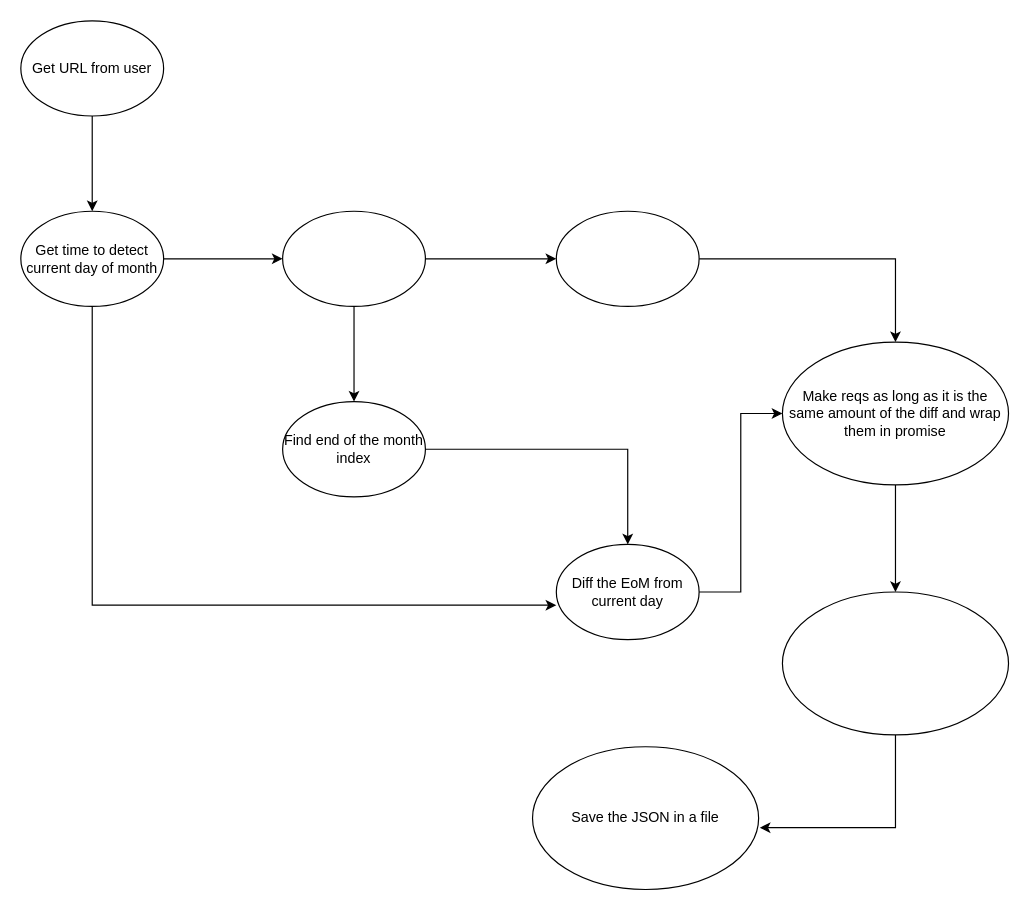
This 1029x910 diagram has some shape labels left out. Each missing label, with the centre of its shape:
"Fix a list of links for daily forecast" goes at point (627, 258).
"Save the values in an object and stringify" goes at point (895, 663).
"Send request to URL" goes at point (353, 258).
